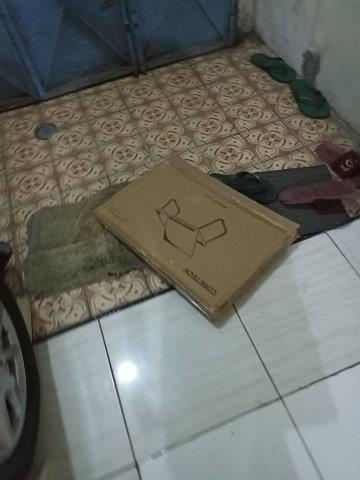kardus: (96, 159, 298, 320)
